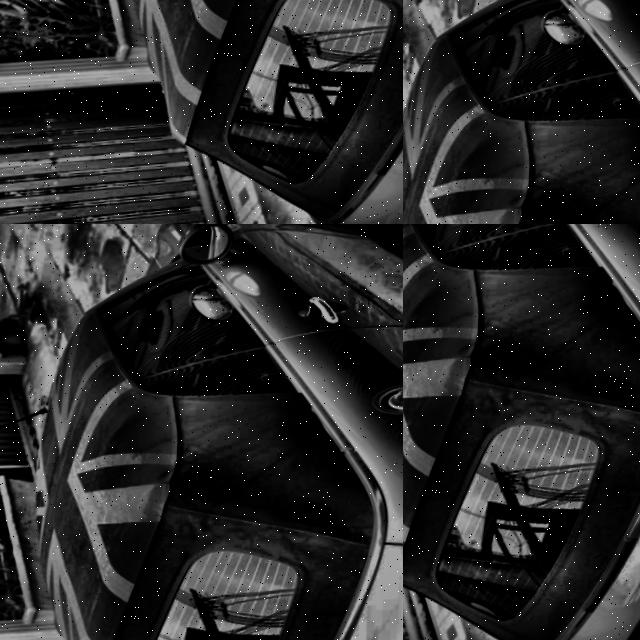license-plate: (132, 457, 242, 588)
